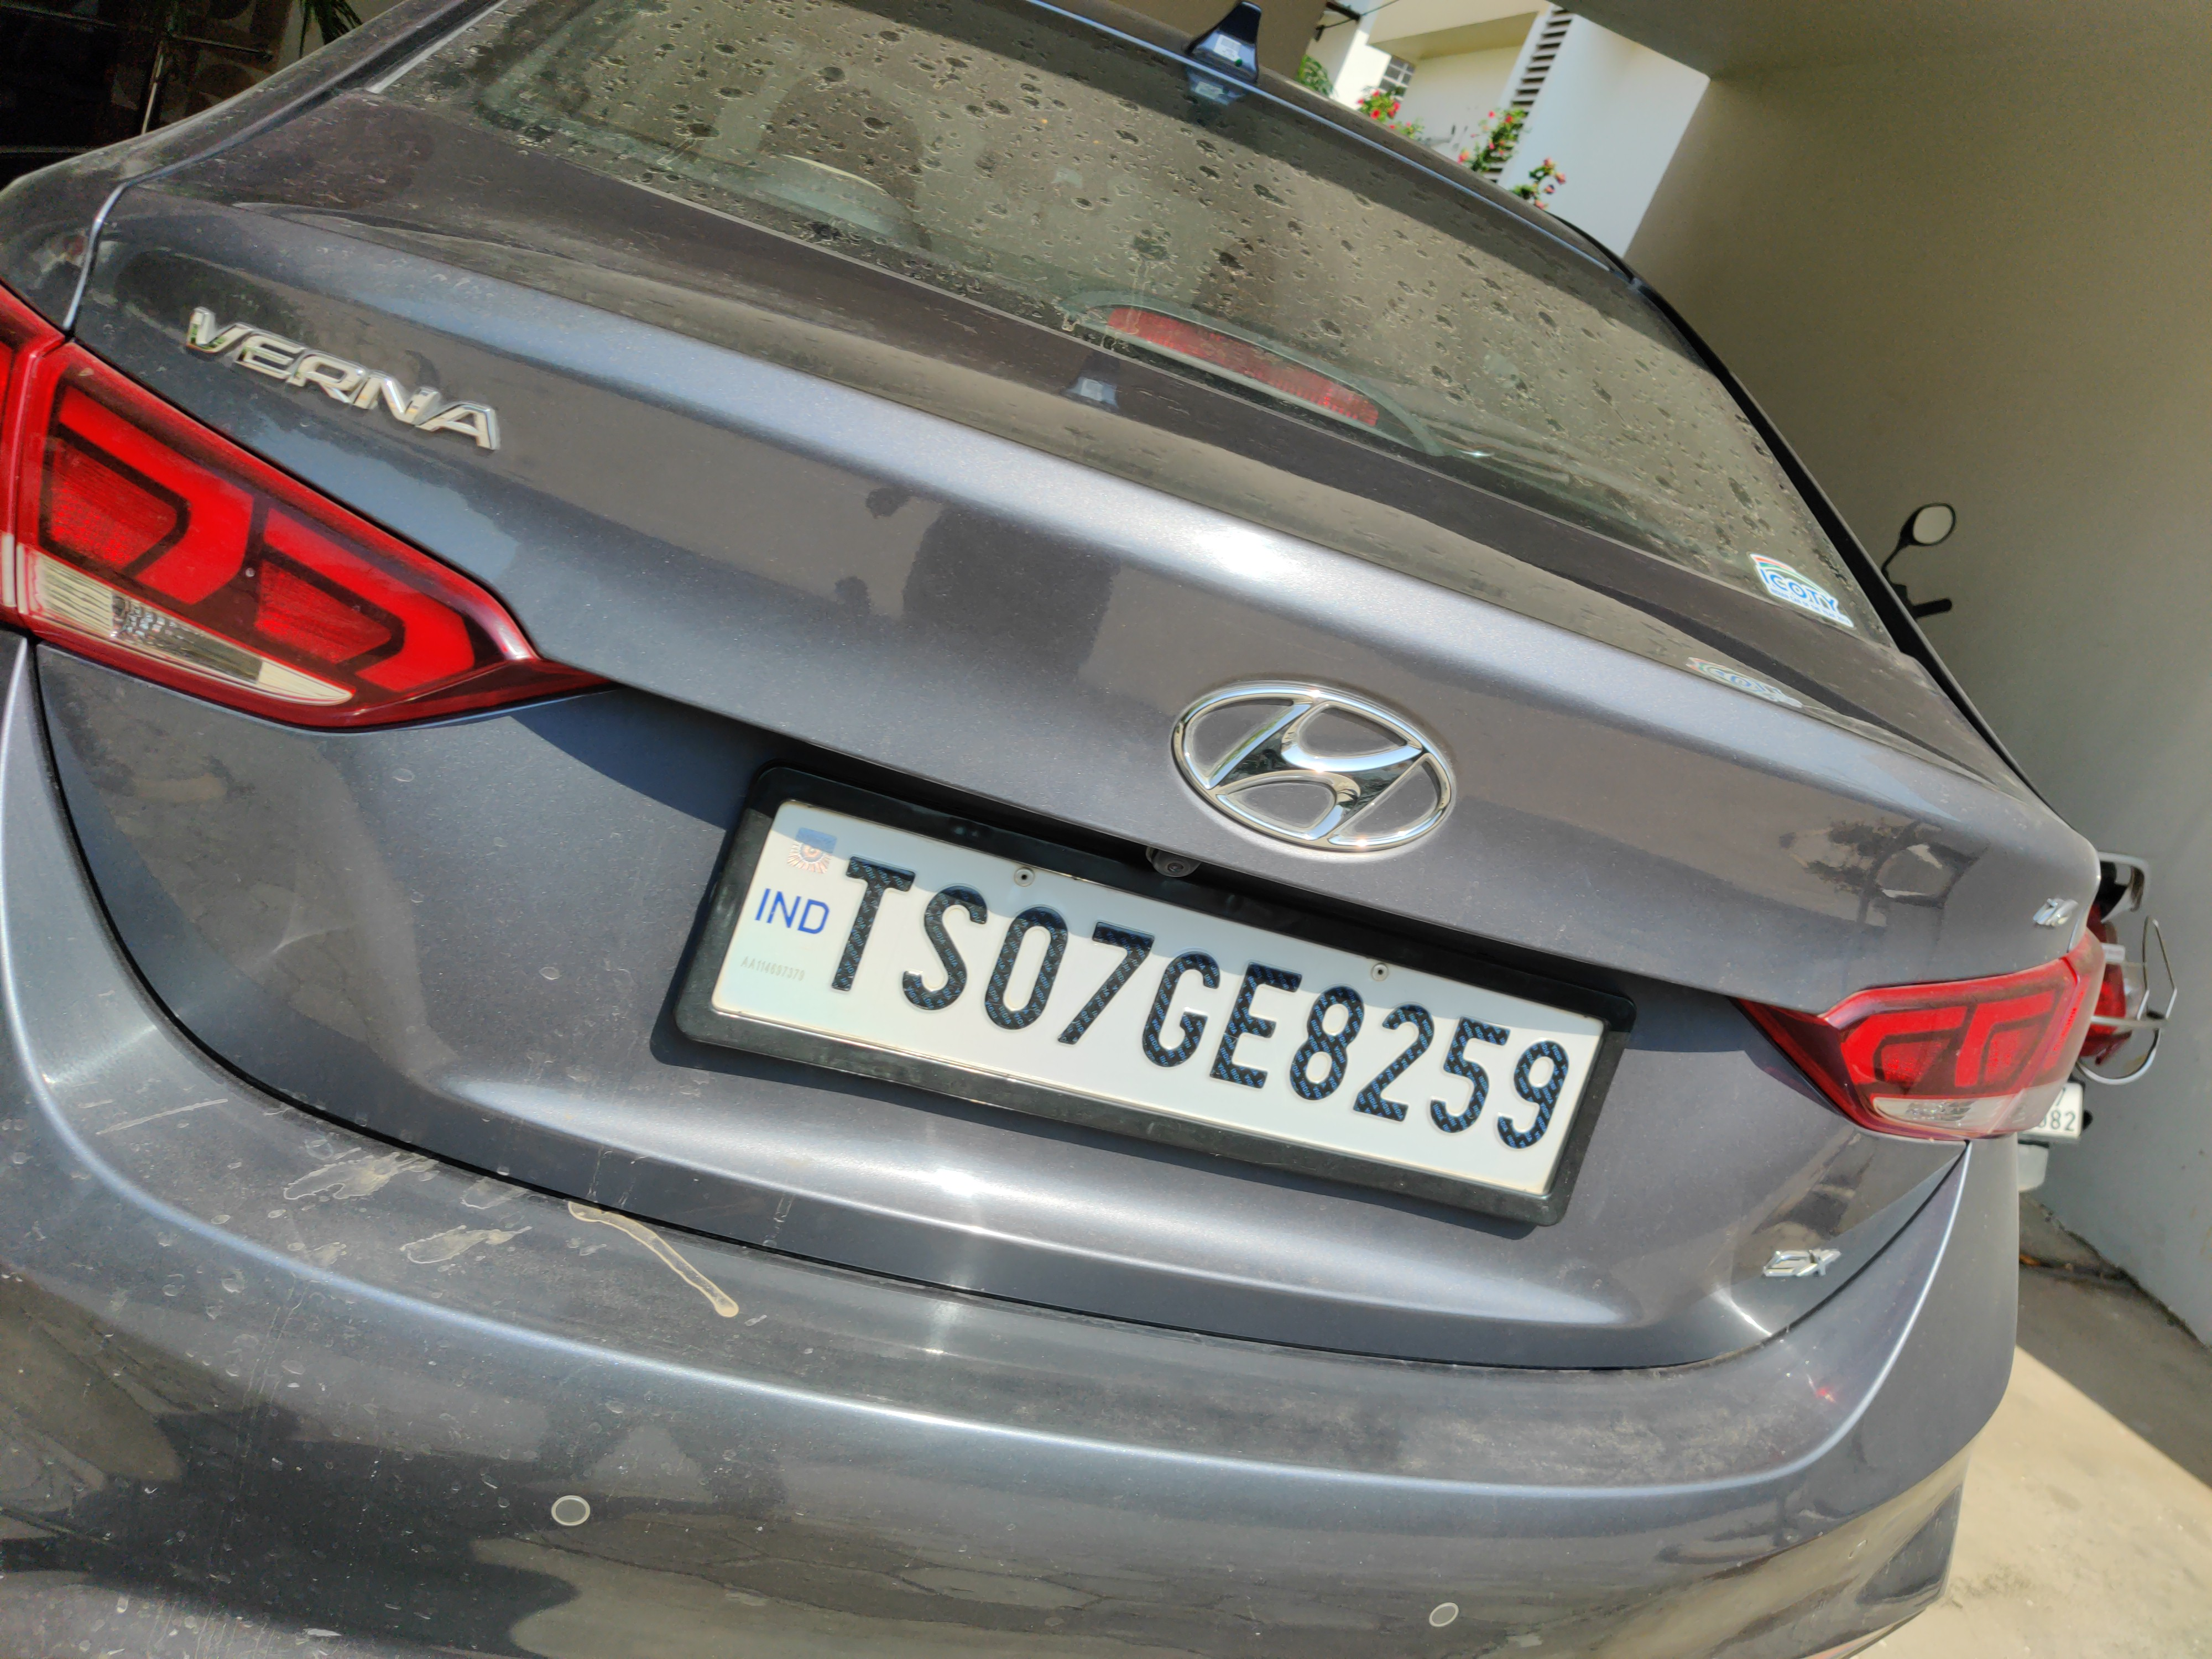plate: (636, 739, 1673, 1241)
